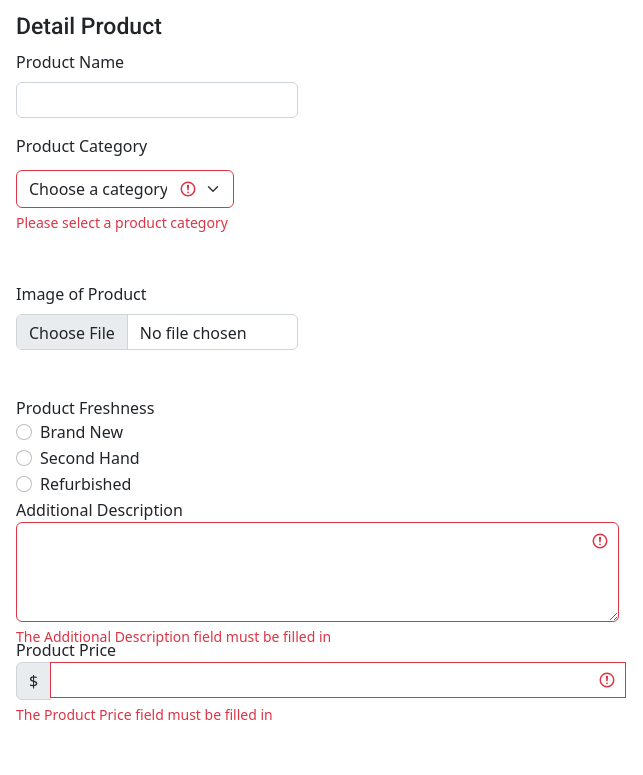
Test case: displays error message for invalid Product Name
Type "InvalidProductName" into the field labelled "Product Name" at (157, 100), box top-left (16, 82), bottom-right (298, 118)
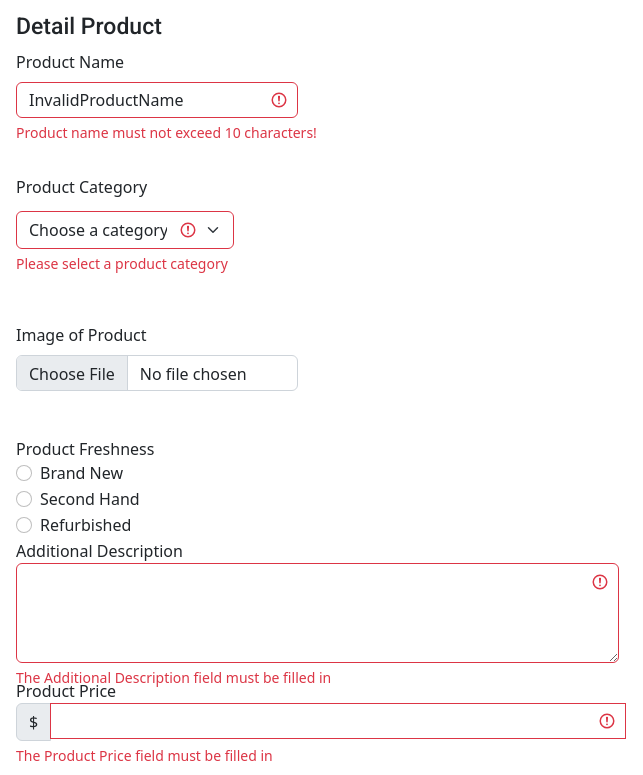
Check: the text "Product name must not exceed 10 characters!" is shown, box top-left (16, 123), bottom-right (317, 142)
